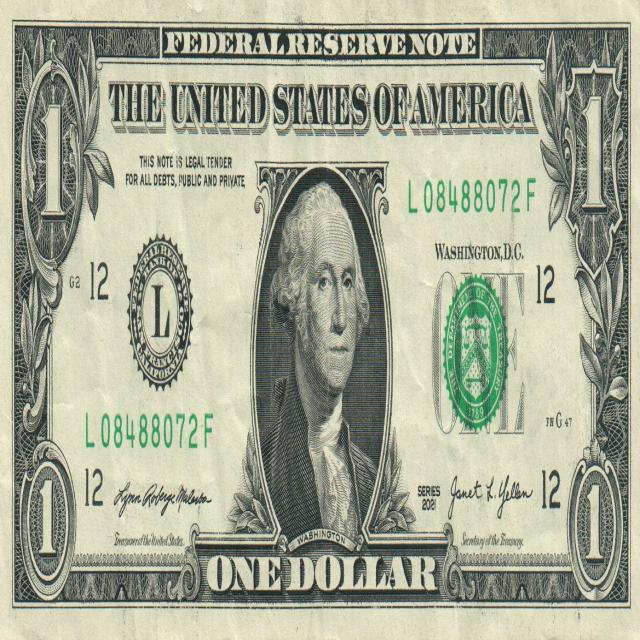SerialNumber: (422, 178, 535, 213), (100, 413, 212, 448)
